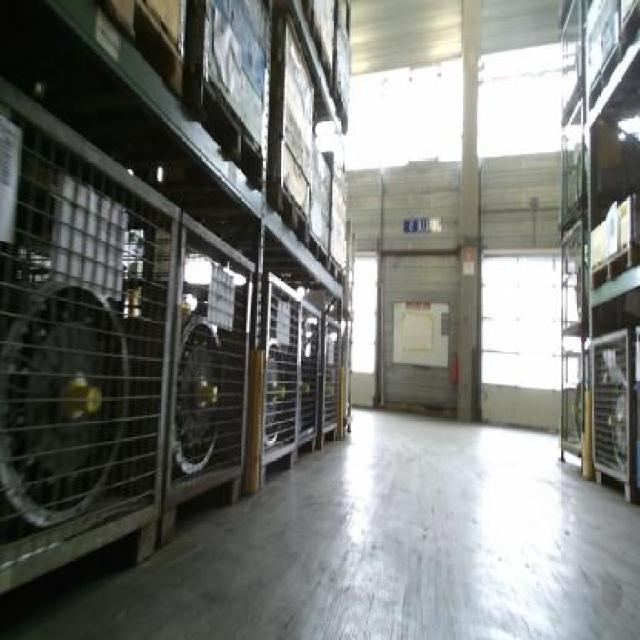pallet: (157, 461, 250, 550)
